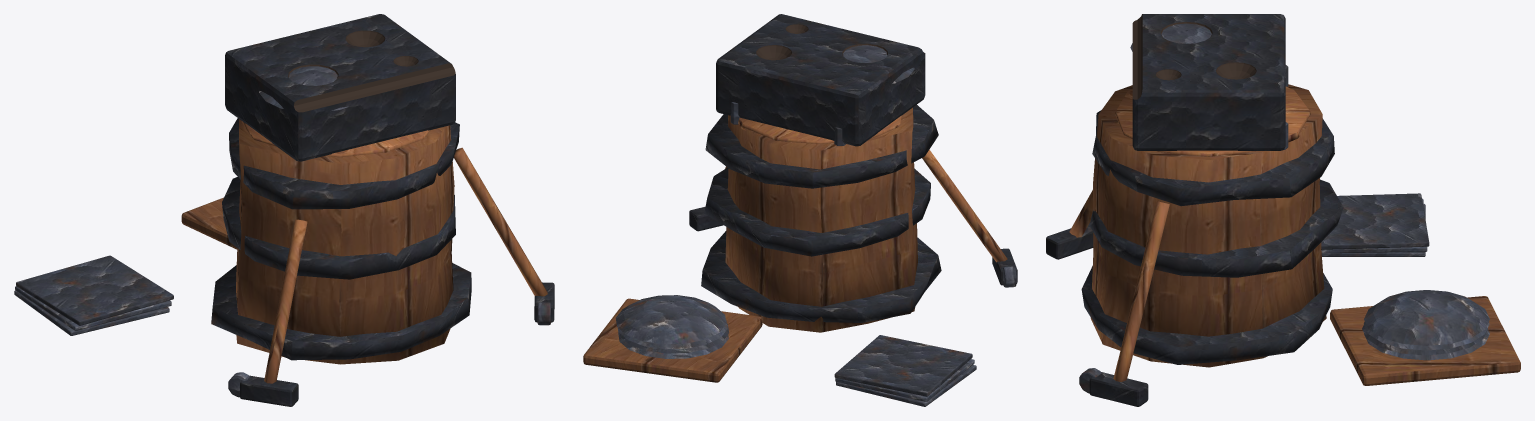
File: hw_plate_anvil.glb
The picture shows the model from 3 angles, left to right: view 1: azimuth 30°, elevation 25°; view 2: azimuth 150°, elevation 25°; view 3: azimuth 270°, elevation 25°; orthographic projection. The views are drawn at different scales.
Visible parts, largest first — view 1: model; view 2: model; view 3: model.
Part boxes in pixels (x1=…): model: x1=14, y1=14, x2=554, y2=406; model: x1=583, y1=14, x2=1017, y2=406; model: x1=1046, y1=14, x2=1520, y2=406.
Bounding box in the file's own units: 1.05 × 0.658 × 1.05.
Materials: 7 (6 with a texture image).
